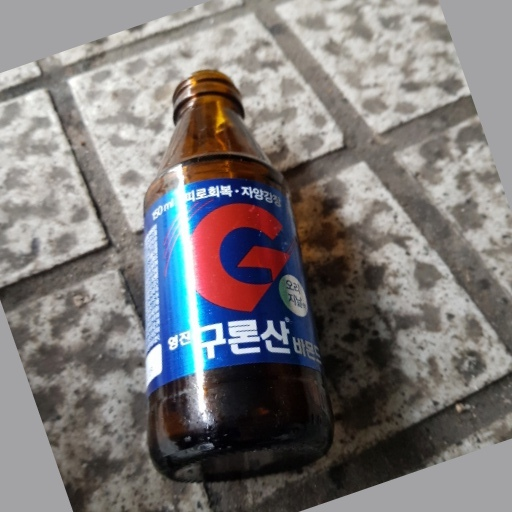Glass_3: (142, 70, 334, 480)
